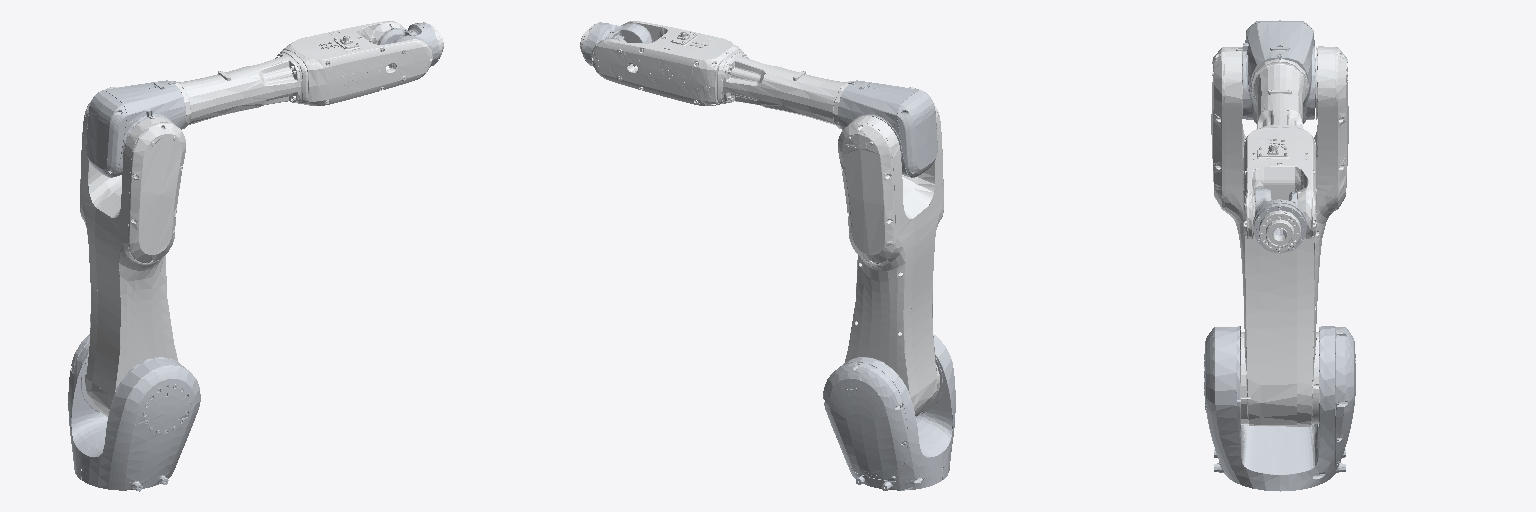
URDF robot description (IR-R10H-120S5-C2H-INT_01741201):
<?xml version="1.0"?>
<!-- Firmware source: params_package/Standard/Body/IR-R10H-120S5-C2H-INT_01741201/IR-R10H-120S5-C2H-INT_01741201.json; SHA256 92dd1d90c5c9f598c8dafd2191b12d2f0738ac95c15d0a742990385a310b7aeb. -->
<!-- Z-up; STL mm scaled to m. Effective firmware mass properties are SI and transformed into CAD link frames. -->
<!-- Revolute effort is nominal output torque; prismatic effort is ideal screw force. See physics-audit.json for approximations. -->
<robot name="IR-R10H-120S5-C2H-INT_01741201">
  <link name="base_link">

    <visual name="base">
      <origin xyz="0 0 0" rpy="0 0 0"/>
      <geometry>
        <mesh filename="../models/IR-R10H-120/P0.stl" scale="0.001 0.001 0.001"/>
      </geometry>
      <material name="base_material">
        <color rgba="0.31 0.35 0.41 1"/>
      </material>
    </visual>
    <collision name="base_collision">
      <origin xyz="0 0 0" rpy="0 0 0"/>
      <geometry>
        <mesh filename="../models/IR-R10H-120/P0.stl" scale="0.001 0.001 0.001"/>
      </geometry>
    </collision>
  </link>

  <link name="link_1">

    <!-- inertial source: bounding-box-fallback -->
    <!-- Effective firmware principal moments are not physically realizable; no unit guessing applied -->
    <inertial>
      <origin xyz="0.007941749573 -0.000000175476 0.351293289185" rpy="0 0 0"/>
      <mass value="7.2345"/>
      <inertia ixx="0.087493017086" ixy="0" ixz="0" iyy="0.074208036773" iyz="0" izz="0.06946101568"/>
    </inertial>

    <visual name="link_1">
      <origin xyz="0 0 0" rpy="0 0 0"/>
      <geometry>
        <mesh filename="../models/IR-R10H-120/P1.stl" scale="0.001 0.001 0.001"/>
      </geometry>
      <material name="link_1_material">
        <color rgba="0.84 0.86 0.89 1"/>
      </material>
    </visual>
    <collision name="link_1_collision">
      <origin xyz="0 0 0" rpy="0 0 0"/>
      <geometry>
        <mesh filename="../models/IR-R10H-120/P1.stl" scale="0.001 0.001 0.001"/>
      </geometry>
    </collision>
  </link>

  <link name="link_2">

    <!-- inertial source: firmware-effective-si -->
    <inertial>
      <origin xyz="-0.0074 -0.0295 0.1454" rpy="0 0 0"/>
      <mass value="15.6254"/>
      <inertia ixx="0.7271" ixy="0" ixz="0" iyy="0.71" iyz="0" izz="0.0966"/>
    </inertial>

    <visual name="link_2">
      <origin xyz="-0.025 0 -0.4" rpy="0 0 0"/>
      <geometry>
        <mesh filename="../models/IR-R10H-120/P2.stl" scale="0.001 0.001 0.001"/>
      </geometry>
      <material name="link_2_material">
        <color rgba="0.94 0.95 0.96 1"/>
      </material>
    </visual>
    <collision name="link_2_collision">
      <origin xyz="-0.025 0 -0.4" rpy="0 0 0"/>
      <geometry>
        <mesh filename="../models/IR-R10H-120/P2.stl" scale="0.001 0.001 0.001"/>
      </geometry>
    </collision>
  </link>

  <link name="link_3">

    <!-- inertial source: firmware-effective-si -->
    <inertial>
      <origin xyz="0.0078 -0.0131 0.0088" rpy="0 0 0"/>
      <mass value="4.9193866543"/>
      <inertia ixx="0.0198" ixy="0" ixz="0" iyy="0.0224" iyz="0" izz="0.0162"/>
    </inertial>

    <visual name="link_3">
      <origin xyz="-0.025 0 -0.96" rpy="0 0 0"/>
      <geometry>
        <mesh filename="../models/IR-R10H-120/P3.stl" scale="0.001 0.001 0.001"/>
      </geometry>
      <material name="link_3_material">
        <color rgba="0.84 0.86 0.89 1"/>
      </material>
    </visual>
    <collision name="link_3_collision">
      <origin xyz="-0.025 0 -0.96" rpy="0 0 0"/>
      <geometry>
        <mesh filename="../models/IR-R10H-120/P3.stl" scale="0.001 0.001 0.001"/>
      </geometry>
    </collision>
  </link>

  <link name="link_4">

    <!-- inertial source: bounding-box-fallback -->
    <!-- Effective firmware principal moments are not physically realizable; no unit guessing applied -->
    <inertial>
      <origin xyz="0.369784545898 0.00000006485 0.008184631348" rpy="0 0 0"/>
      <mass value="5.5745"/>
      <inertia ixx="0.01436249717" ixy="0" ixz="0" iyy="0.162980127778" iyz="0" izz="0.163461769669"/>
    </inertial>

    <visual name="link_4">
      <origin xyz="-0.025 0 -1" rpy="0 0 0"/>
      <geometry>
        <mesh filename="../models/IR-R10H-120/P4.stl" scale="0.001 0.001 0.001"/>
      </geometry>
      <material name="link_4_material">
        <color rgba="0.94 0.95 0.96 1"/>
      </material>
    </visual>
    <collision name="link_4_collision">
      <origin xyz="-0.025 0 -1" rpy="0 0 0"/>
      <geometry>
        <mesh filename="../models/IR-R10H-120/P4.stl" scale="0.001 0.001 0.001"/>
      </geometry>
    </collision>
  </link>

  <link name="link_5">

    <!-- inertial source: firmware-effective-si -->
    <inertial>
      <origin xyz="0.0247 -0.0026 -0.0000862" rpy="0 0 0"/>
      <mass value="1.2953"/>
      <inertia ixx="0.0018" ixy="0" ixz="0" iyy="0.0022" iyz="0" izz="0.003"/>
    </inertial>

    <visual name="link_5">
      <origin xyz="-0.64 0 -1" rpy="0 0 0"/>
      <geometry>
        <mesh filename="../models/IR-R10H-120/P5.stl" scale="0.001 0.001 0.001"/>
      </geometry>
      <material name="link_5_material">
        <color rgba="0.84 0.86 0.89 1"/>
      </material>
    </visual>
    <collision name="link_5_collision">
      <origin xyz="-0.64 0 -1" rpy="0 0 0"/>
      <geometry>
        <mesh filename="../models/IR-R10H-120/P5.stl" scale="0.001 0.001 0.001"/>
      </geometry>
    </collision>
  </link>

  <link name="link_6">

    <!-- inertial source: firmware-effective-si -->
    <inertial>
      <origin xyz="-0.0173 0.0000246 -0.0000798" rpy="0 0 0"/>
      <mass value="0.5802"/>
      <inertia ixx="0.0007067" ixy="0" ixz="0" iyy="0.000413" iyz="0" izz="0.000414"/>
    </inertial>

    <visual name="link_6">
      <origin xyz="-0.718 0 -1" rpy="0 0 0"/>
      <geometry>
        <mesh filename="../models/IR-R10H-120/P6.stl" scale="0.001 0.001 0.001"/>
      </geometry>
      <material name="link_6_material">
        <color rgba="0.94 0.95 0.96 1"/>
      </material>
    </visual>
    <collision name="link_6_collision">
      <origin xyz="-0.718 0 -1" rpy="0 0 0"/>
      <geometry>
        <mesh filename="../models/IR-R10H-120/P6.stl" scale="0.001 0.001 0.001"/>
      </geometry>
    </collision>
  </link>

  <joint name="J1" type="revolute">
    <parent link="base_link"/>
    <child link="link_1"/>
    <origin xyz="0 0 0" rpy="0 0 0"/>
    <axis xyz="0 0 1"/>
    <limit lower="-2.96705972839" upper="2.96705972839" effort="286.8" velocity="4.188790204786"/>
  </joint>

  <joint name="J2" type="revolute">
    <parent link="link_1"/>
    <child link="link_2"/>
    <origin xyz="0.025 0 0.4" rpy="0 0 0"/>
    <axis xyz="0 -1 0"/>
    <limit lower="-2.356194490192" upper="1.745329251994" effort="384.79" velocity="3.14159265359"/>
  </joint>

  <joint name="J3" type="revolute">
    <parent link="link_2"/>
    <child link="link_3"/>
    <origin xyz="0 0 0.56" rpy="0 0 0"/>
    <axis xyz="0 -1 0"/>
    <limit lower="-1.151917306316" upper="3.665191429188" effort="180" velocity="5.759586531581"/>
  </joint>

  <joint name="J4" type="revolute">
    <parent link="link_3"/>
    <child link="link_4"/>
    <origin xyz="0 0 0.04" rpy="0 0 0"/>
    <axis xyz="1 0 0"/>
    <limit lower="-3.316125578789" upper="3.316125578789" effort="39.999984" velocity="8.203047484373"/>
  </joint>

  <joint name="J5" type="revolute">
    <parent link="link_4"/>
    <child link="link_5"/>
    <origin xyz="0.615 0 0" rpy="0 0 0"/>
    <axis xyz="0 -1 0"/>
    <limit lower="-2.094395102393" upper="2.094395102393" effort="25.463421" velocity="7.644542123735"/>
  </joint>

  <joint name="J6" type="revolute">
    <parent link="link_5"/>
    <child link="link_6"/>
    <origin xyz="0.078 0 0" rpy="0 0 0"/>
    <axis xyz="1 0 0"/>
    <limit lower="-6.28318530718" upper="6.28318530718" effort="23.799984" velocity="13.346532790001"/>
  </joint>

  <link name="tool0"/>
  <joint name="tool0_fixed" type="fixed">
    <parent link="link_6"/>
    <child link="tool0"/>
    <origin xyz="0 0 0" rpy="3.14159265359 -1.570796326795 0"/>
  </joint>
</robot>

--- Render facts (derived) ---
Views: 3 orthographic renders of the robot side by side, from view 1: azimuth 30°, elevation 25°; view 2: azimuth 150°, elevation 25°; view 3: azimuth 270°, elevation 25°.
Model IR-R10H-120S5-C2H-INT_01741201 with 8 links and 7 joints (6 revolute, 1 fixed), rooted at base_link, posed all joints at 0.
Links seen in each view (by area): view 1: link_2, link_1, link_4, link_3, link_5; view 2: link_2, link_1, link_4, link_3, link_5; view 3: link_2, link_1, link_4, link_3, link_5, link_6.
Boxes of the visible links, x1=… form: link_2: x1=80, y1=87, x2=185, y2=416; link_1: x1=68, y1=334, x2=200, y2=491; link_4: x1=171, y1=21, x2=432, y2=128; link_3: x1=86, y1=80, x2=185, y2=177; link_5: x1=377, y1=22, x2=438, y2=67; link_2: x1=838, y1=87, x2=943, y2=416; link_1: x1=823, y1=334, x2=955, y2=490; link_4: x1=591, y1=21, x2=852, y2=128; link_3: x1=838, y1=80, x2=937, y2=177; link_5: x1=585, y1=22, x2=652, y2=66; link_2: x1=1211, y1=46, x2=1348, y2=426; link_1: x1=1204, y1=326, x2=1355, y2=491; link_4: x1=1243, y1=58, x2=1316, y2=238; link_3: x1=1243, y1=20, x2=1315, y2=123; link_5: x1=1253, y1=188, x2=1306, y2=253; link_6: x1=1259, y1=210, x2=1300, y2=250.
Size in the robot's own frame: 0.829 by 0.262 by 0.8563 metres.
Meshes: 7 distinct files referenced, 6 mesh visuals loaded (6 binary STL); not drawn: 1 (reference not matched to a file when rendering).
